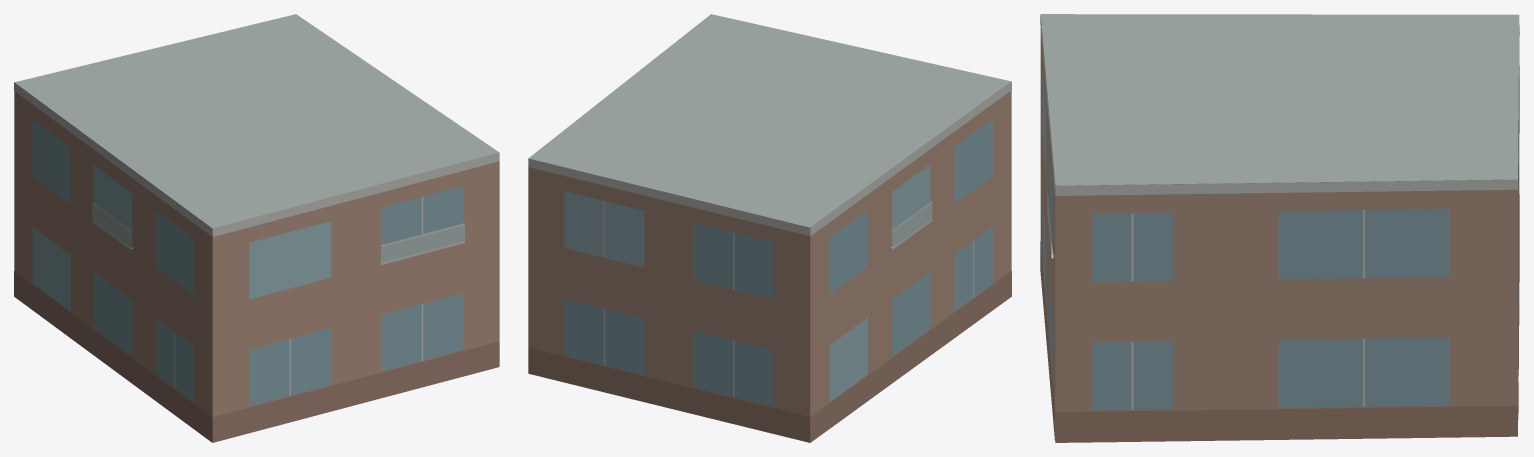
File: survey-upis-32949106.glb
3 views of the same model, side by side, from view 1: azimuth 30°, elevation 25°; view 2: azimuth 150°, elevation 25°; view 3: azimuth 270°, elevation 25° (orthographic). The views are drawn at different scales.
Parts seen in each view (by area): view 1: survey-upis-32949106.tmp; view 2: survey-upis-32949106.tmp; view 3: survey-upis-32949106.tmp.
Part boxes in pixels (x1=…): survey-upis-32949106.tmp: x1=14, y1=14, x2=499, y2=442; survey-upis-32949106.tmp: x1=528, y1=14, x2=1011, y2=442; survey-upis-32949106.tmp: x1=1040, y1=14, x2=1519, y2=442.
Size of the model in its own units: 8.77 by 6.1 by 10.3.
